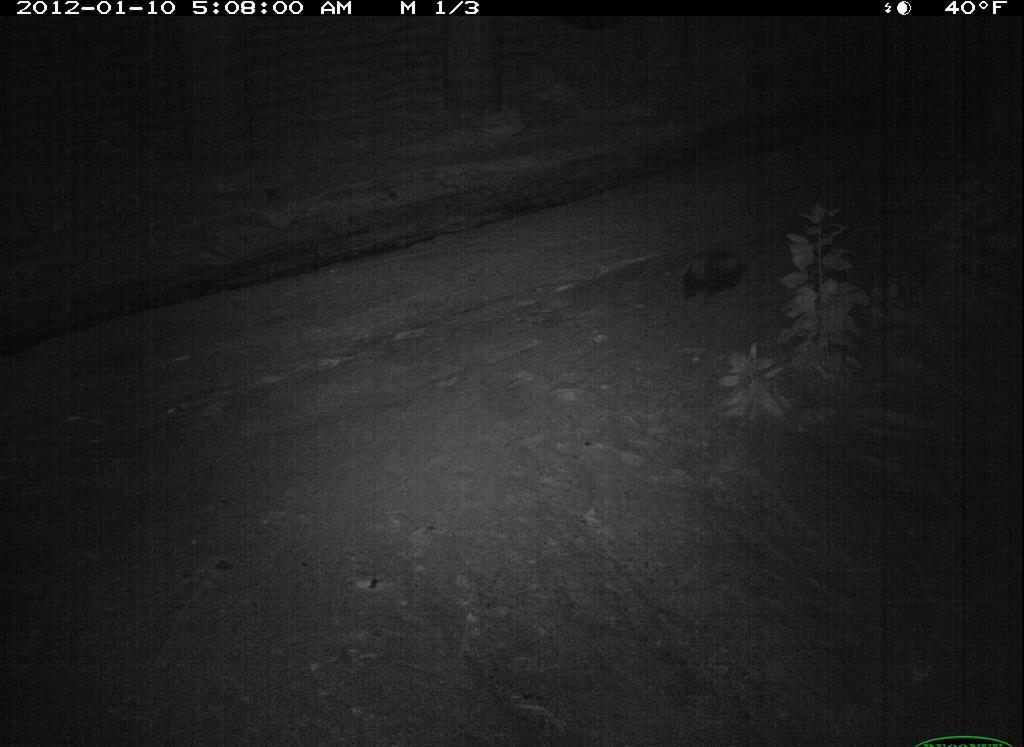skunk: (670, 218, 757, 310)
